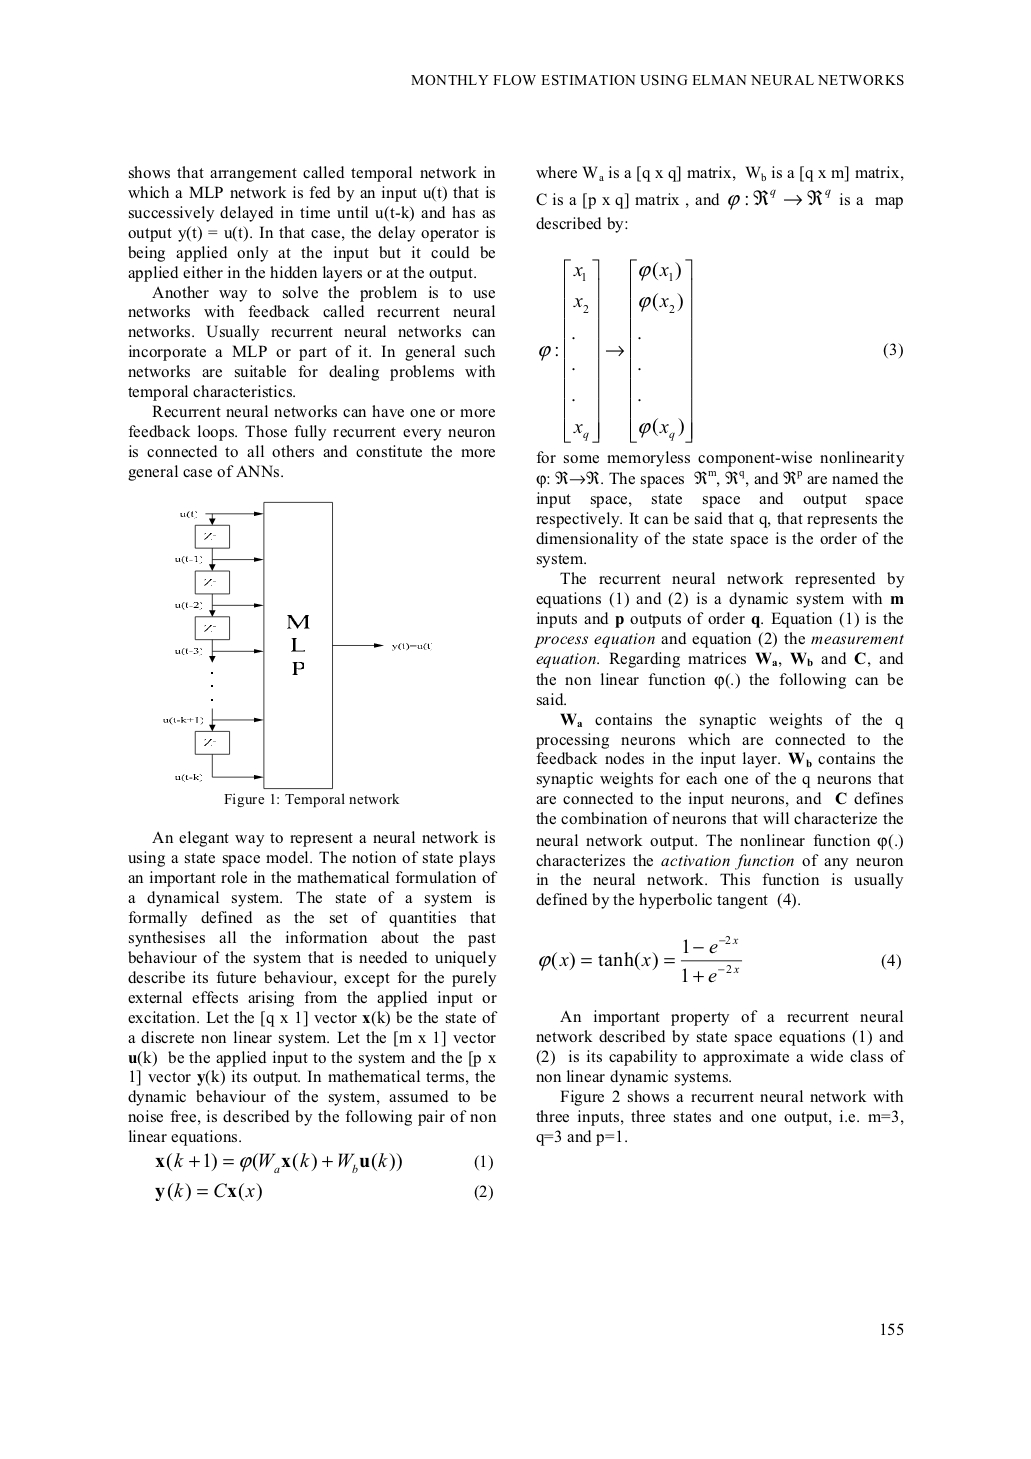figure: (163, 500, 431, 790)
formula: (539, 258, 902, 443), (539, 935, 900, 983), (155, 1151, 492, 1173), (155, 1181, 492, 1201)
